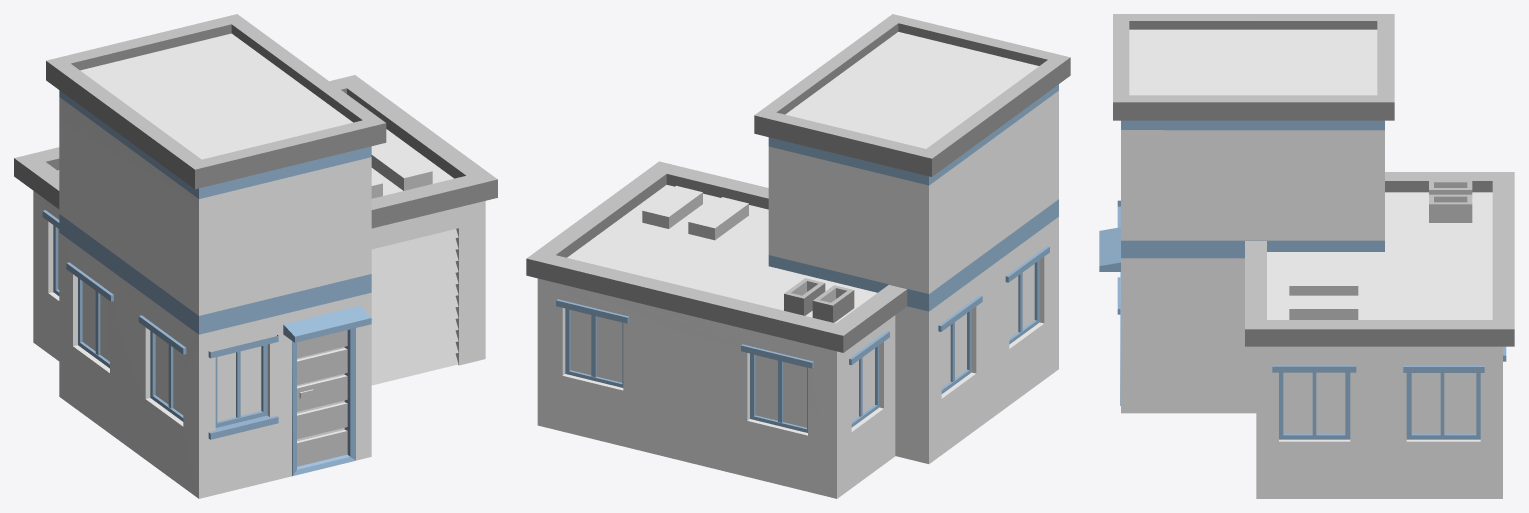
File: house_purpose_008.fbx
3 views of the same model, side by side, from view 1: azimuth 30°, elevation 25°; view 2: azimuth 150°, elevation 25°; view 3: azimuth 270°, elevation 25° (orthographic). The views are drawn at different scales.
Parts seen in each view (by area): view 1: house_purpose_008; view 2: house_purpose_008; view 3: house_purpose_008.
Part boxes in pixels (<box>): house_purpose_008: <box>14,14,497,498</box>; house_purpose_008: <box>526,14,1070,498</box>; house_purpose_008: <box>1099,14,1514,498</box>.
Bounding box in the file's own units: 741 × 636 × 757.
